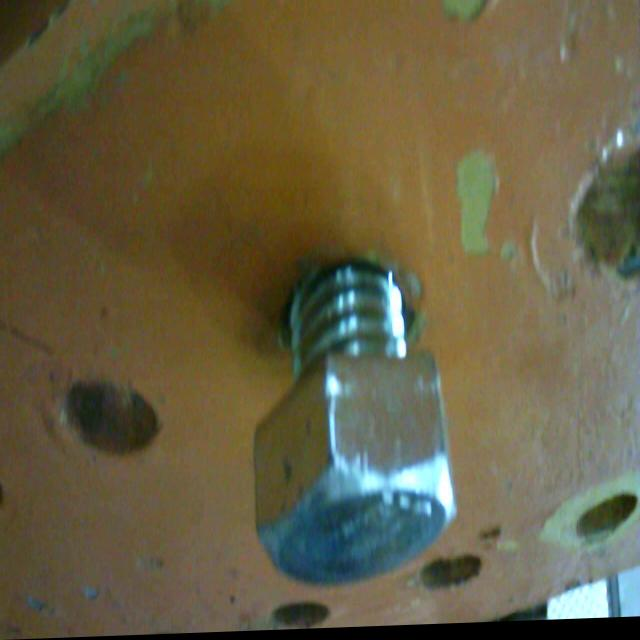Loose bolt: (254, 264, 458, 596)
Missing bolt: (68, 371, 162, 461), (577, 489, 638, 545), (423, 558, 483, 606), (274, 600, 332, 633)
Regular bolt: (257, 265, 462, 579)
